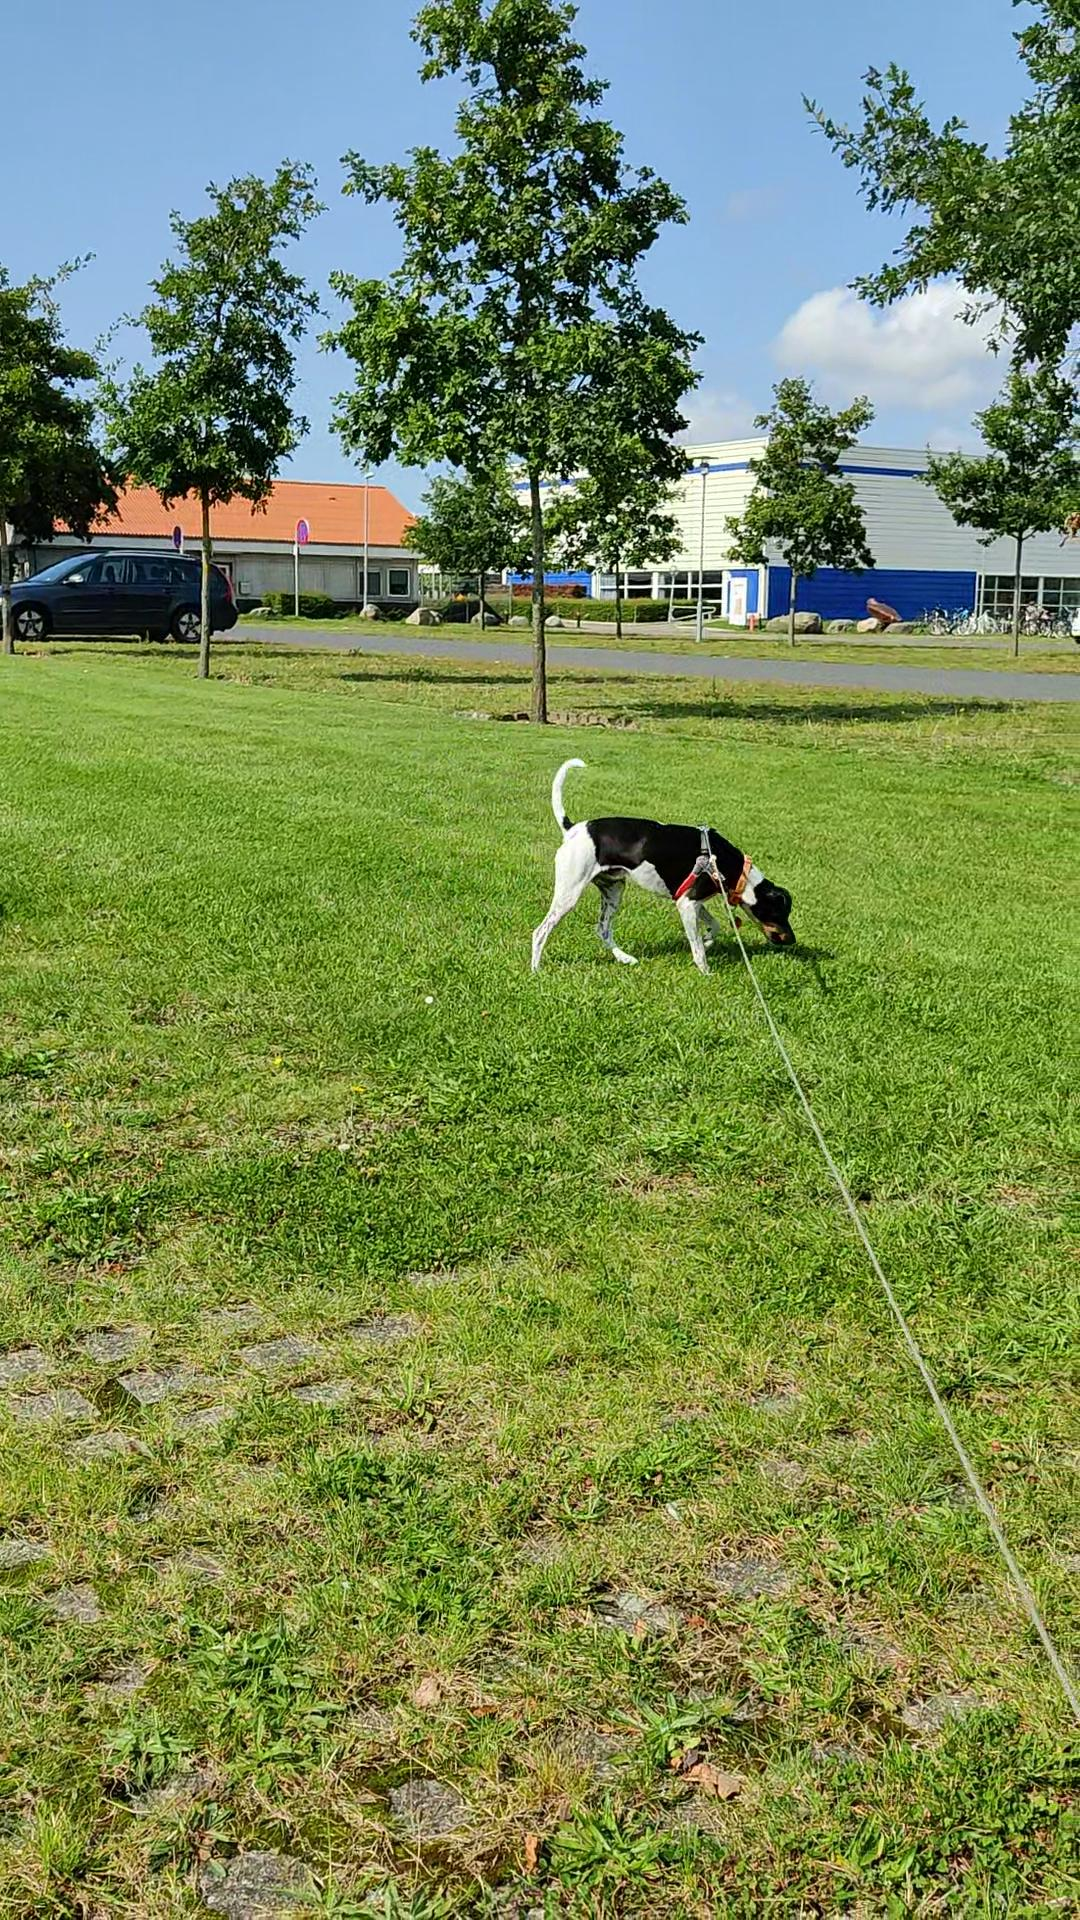Dog: (518, 756, 800, 978)
